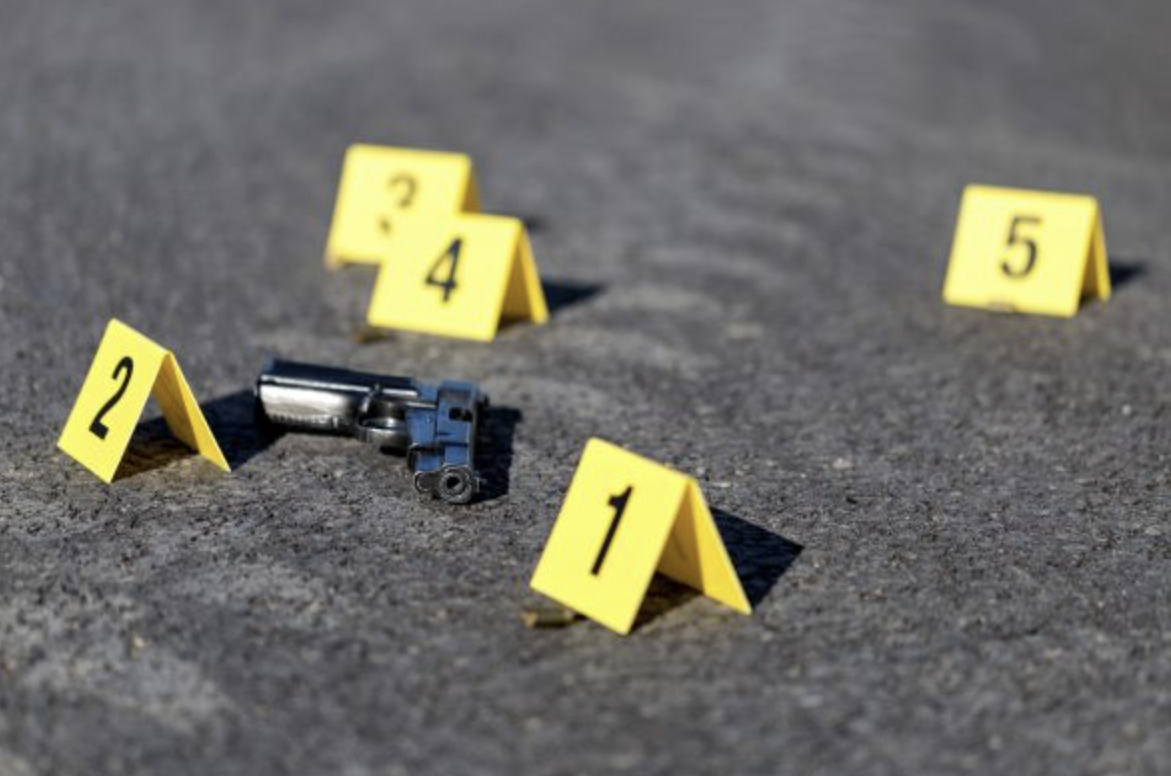gun_028: (247, 347, 494, 510)
